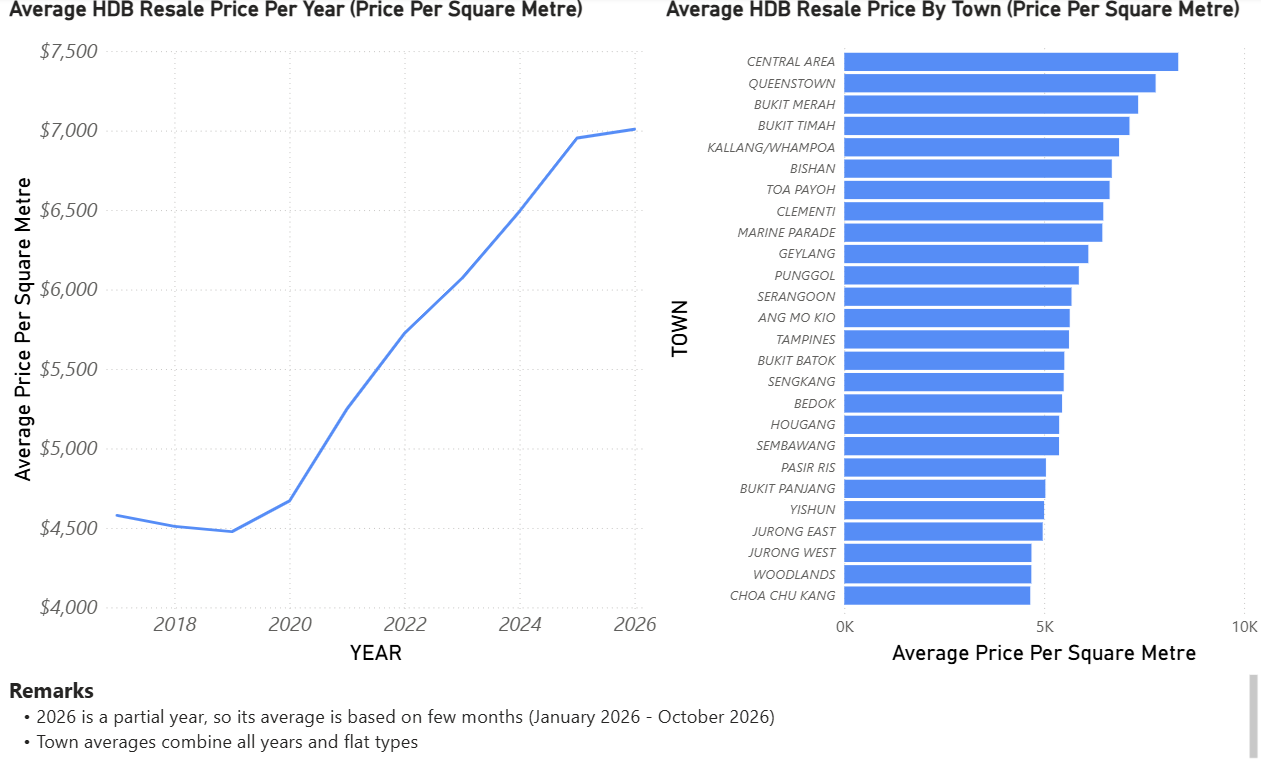

The dashboard page shown, as its layout file describes it:
{"tool":"powerbi","page":{"name":"Price Overview","canvas":[1280,780],"ordinal":0},"visuals":[{"type":"lineChart","title":"Average HDB Resale Price Per Year (Price Per Square Metre)","fields":{"Category":["AVG_PRICE_BY_YEAR.YEAR"],"Y":["Sum(AVG_PRICE_BY_YEAR.AVG_PRICE_PER_SQM)"]},"box":[9.1,0,663.2,679.9],"z":0},{"type":"barChart","title":"Average HDB Resale Price By Town (Price Per Square Metre)","fields":{"Category":["AVG_PRICE_BY_TOWN.TOWN"],"Y":["Sum(AVG_PRICE_BY_TOWN.AVG_PRICE_PER_SQM)"]},"box":[672.3,0,607.2,679.9],"z":1000},{"type":"textbox","box":[9.1,679.9,1270.4,99.9],"z":2000}]}

Visuals, with their boxes in screenshot pixels (x1, y1, x2, y2), scaled from the page's 1280x780 canvas onto the 1261x760 screenshot:
"Average HDB Resale Price Per Year (Price Per Square Metre)" lineChart: x1=9, y1=0, x2=662, y2=662
"Average HDB Resale Price By Town (Price Per Square Metre)" barChart: x1=662, y1=0, x2=1260, y2=662
textbox: x1=9, y1=662, x2=1260, y2=759
